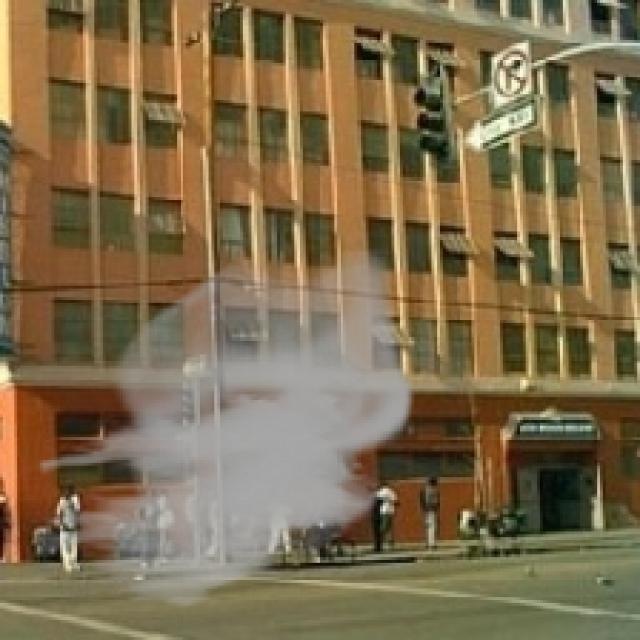smoke: (37, 248, 414, 612)
